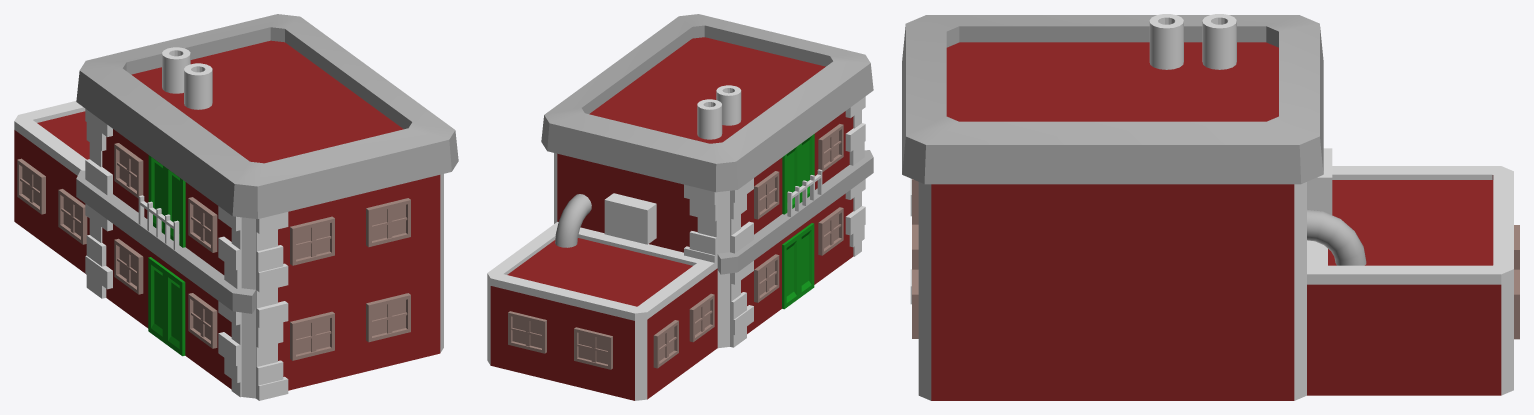
File: batiment 8.FBX
3 views of the same model, side by side, from view 1: azimuth 30°, elevation 25°; view 2: azimuth 150°, elevation 25°; view 3: azimuth 270°, elevation 25° (orthographic). The views are drawn at different scales.
Visible parts, largest first — view 1: Object001, fenetre, porte entrée, cheminée, porte haut, rambarde; view 2: Object001, fenetre, panneau electrique, porte entrée, cheminée, porte haut, tuyau, rambarde; view 3: Object001, cheminée, tuyau, fenetre, panneau electrique.
Part boxes in pixels (x1,y1,x2,y2): Object001: (14, 14, 458, 400); fenetre: (17, 143, 410, 360); porte entrée: (148, 257, 185, 356); cheminée: (162, 47, 212, 109); porte haut: (148, 155, 185, 247); rambarde: (138, 195, 179, 250); Object001: (487, 14, 873, 400); fenetre: (508, 124, 843, 369); panneau electrique: (604, 193, 656, 244); porte entrée: (782, 223, 814, 309); cheminée: (697, 85, 741, 139); porte haut: (782, 134, 814, 214); tuyau: (555, 194, 591, 247); rambarde: (787, 169, 822, 216); Object001: (902, 15, 1513, 400); cheminée: (1149, 14, 1236, 69); tuyau: (1307, 209, 1366, 265); fenetre: (912, 179, 1519, 339); panneau electrique: (1307, 148, 1332, 214).
Bounding box in the file's own units: 795 × 816 × 1561.
